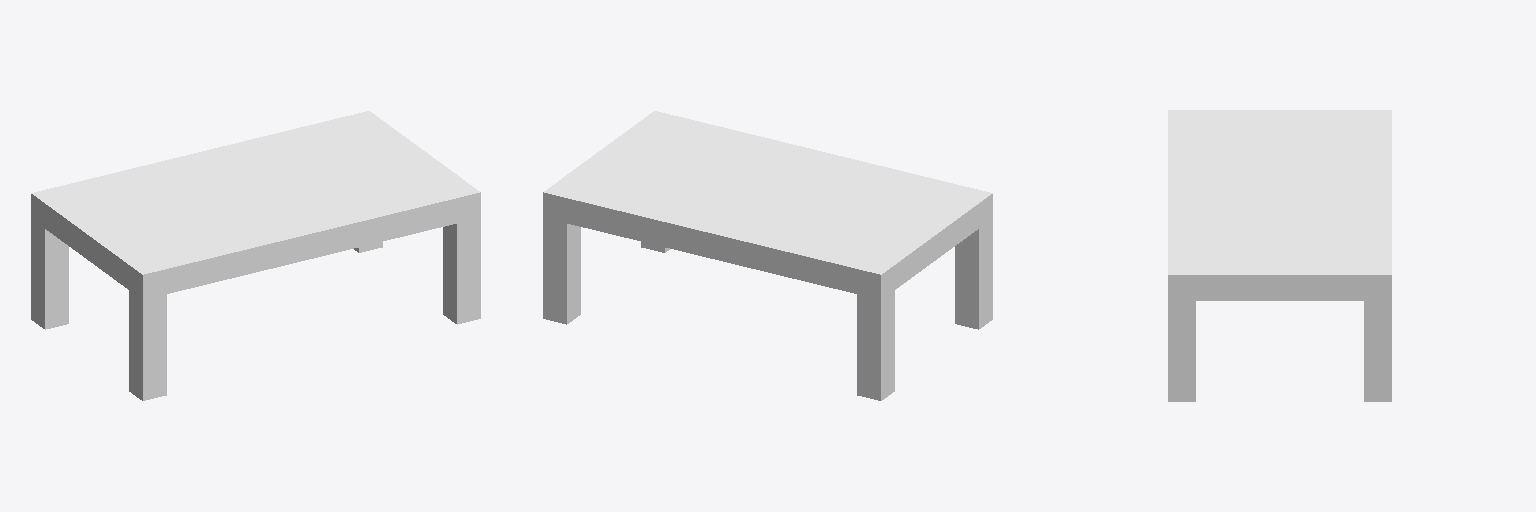
Rendered from -3-Mesa2.obj.
3 views of the same model, side by side, from view 1: azimuth 30°, elevation 25°; view 2: azimuth 150°, elevation 25°; view 3: azimuth 270°, elevation 25° (orthographic).
Parts seen in each view (by area): view 1: Mesa2; view 2: Mesa2; view 3: Mesa2.
Boxes of the visible parts, box(x1,y1,x2,y2) form: Mesa2: box(31, 111, 480, 400); Mesa2: box(543, 111, 992, 400); Mesa2: box(1168, 110, 1391, 401).
Bounding box in the file's own units: 1.4 × 0.5 × 0.8.